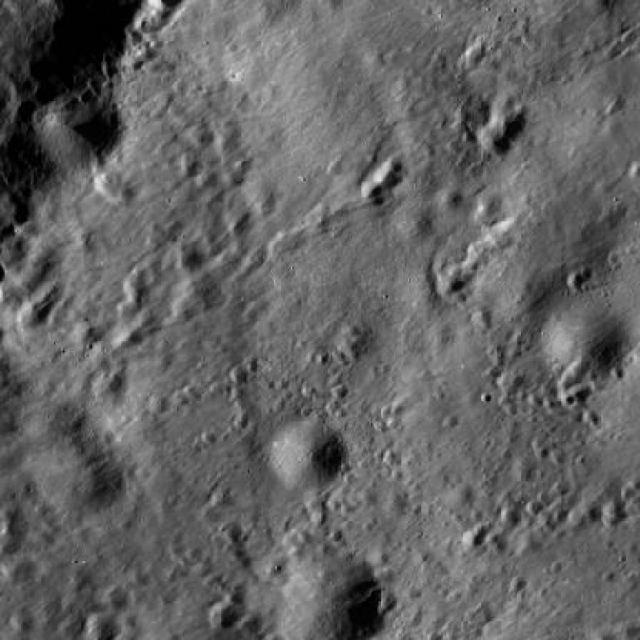crater: (26, 428, 125, 517), (543, 301, 634, 384), (36, 88, 124, 168), (268, 416, 350, 492), (33, 395, 86, 443), (392, 203, 438, 246), (183, 272, 224, 311), (335, 320, 377, 358), (477, 122, 514, 156), (491, 105, 526, 138), (3, 554, 39, 586), (268, 227, 301, 256), (92, 369, 125, 398), (16, 302, 49, 331), (210, 602, 241, 630), (428, 322, 459, 350), (95, 168, 126, 196), (399, 326, 428, 354), (36, 282, 64, 310), (383, 491, 412, 518), (177, 243, 206, 269), (211, 251, 240, 277), (102, 586, 130, 612), (436, 272, 464, 298), (74, 321, 102, 347), (438, 188, 464, 214), (115, 325, 142, 350), (60, 612, 86, 636), (228, 211, 254, 234), (174, 296, 200, 319), (0, 281, 20, 310), (479, 192, 504, 215), (375, 164, 400, 187), (451, 482, 477, 504), (198, 502, 222, 524), (604, 504, 627, 526), (600, 204, 622, 227), (581, 501, 604, 521), (255, 196, 278, 216), (12, 612, 34, 632), (618, 619, 640, 639), (464, 528, 486, 548), (494, 93, 516, 113), (362, 178, 384, 198), (212, 488, 234, 508), (72, 378, 94, 398), (149, 392, 171, 412), (116, 301, 138, 321), (238, 614, 259, 634), (178, 157, 199, 177), (246, 247, 266, 267), (66, 575, 86, 594), (378, 593, 398, 612), (2, 503, 22, 522), (572, 382, 592, 400), (604, 498, 624, 516), (197, 168, 217, 186), (464, 48, 484, 66), (368, 550, 387, 567), (1, 519, 20, 536), (120, 612, 140, 628), (376, 567, 394, 584), (568, 271, 584, 287)
